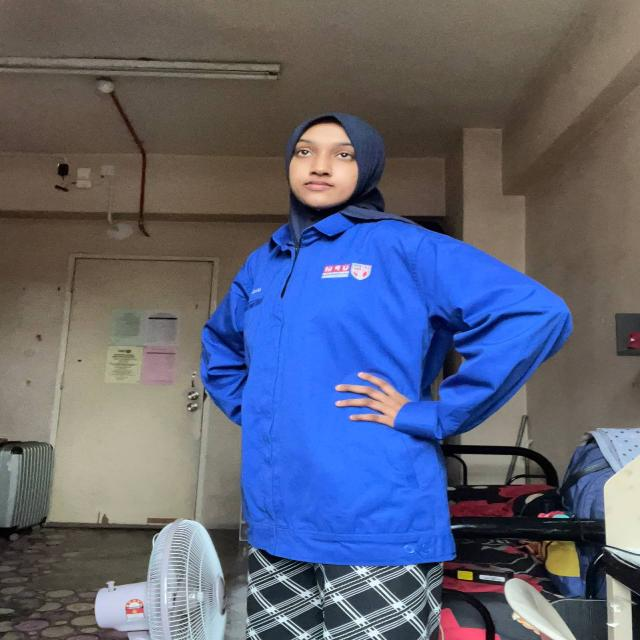person_with_labcoat: (200, 113, 571, 640)
